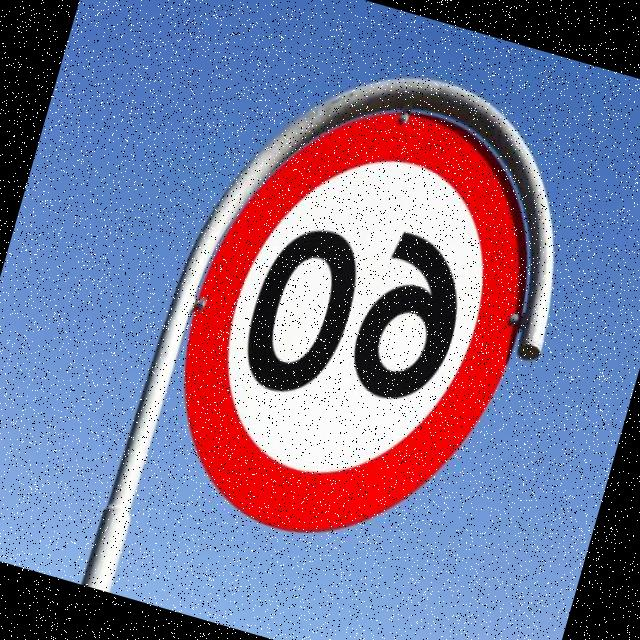speed_limit_60: (133, 58, 579, 583)
